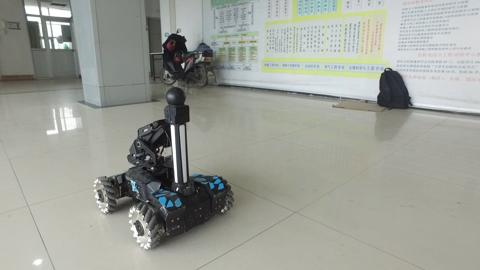bag: (369, 64, 418, 115)
chariot: (86, 86, 244, 253)
